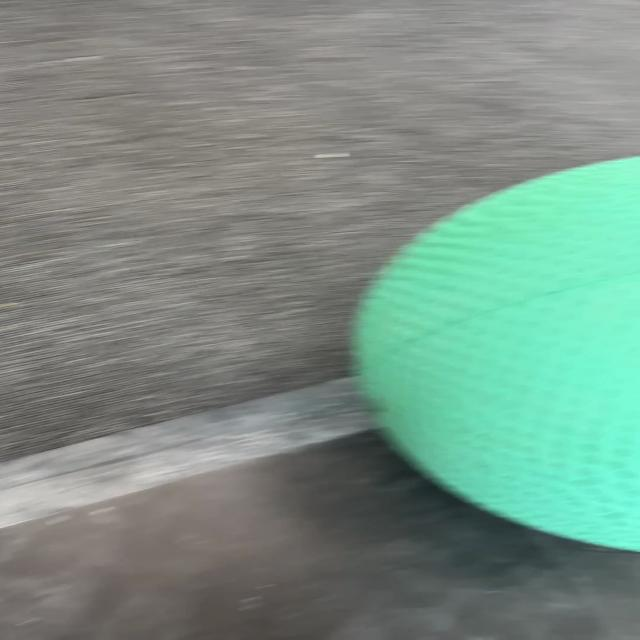Algae: (350, 155, 638, 552)
